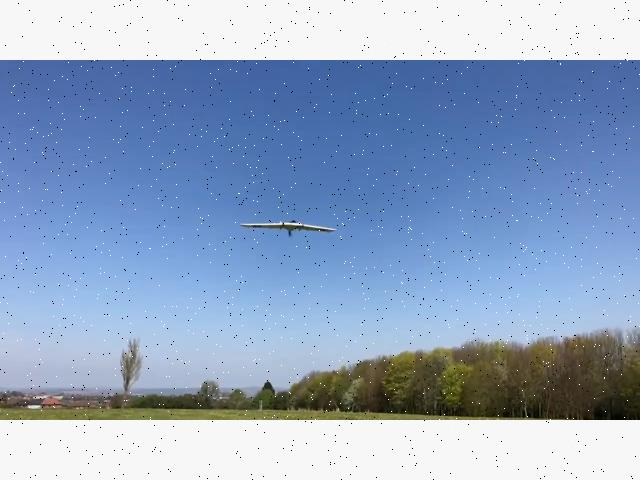Anti-Drone: (238, 219, 338, 239)
